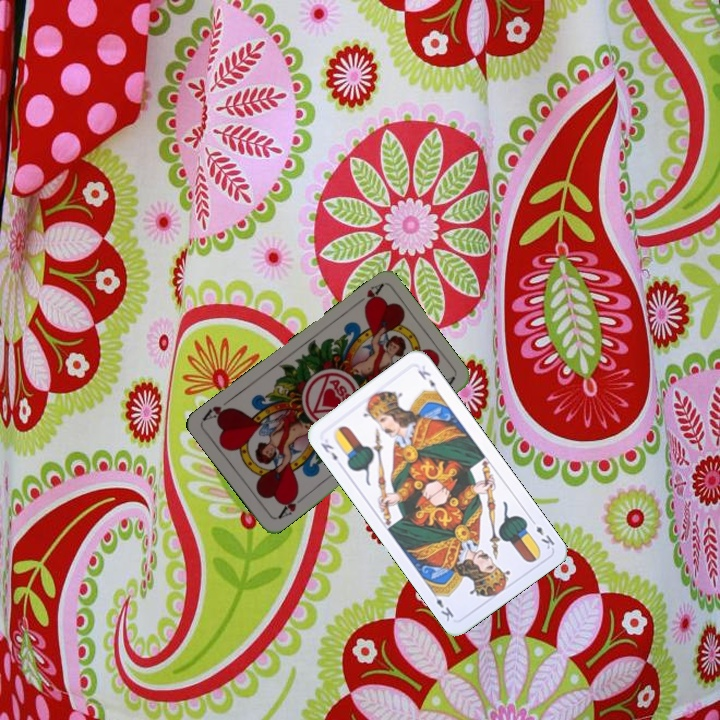EK: (526, 515, 557, 552), (316, 439, 340, 463)
HA: (274, 488, 308, 522), (349, 280, 385, 311)
